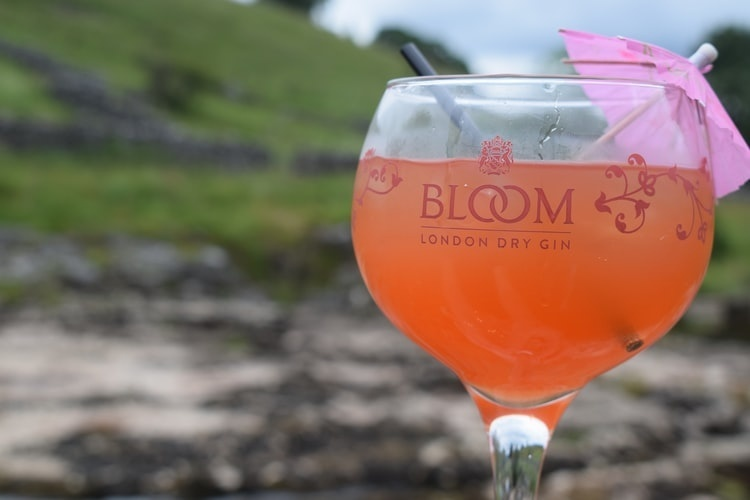whiskey: (351, 75, 715, 442)
